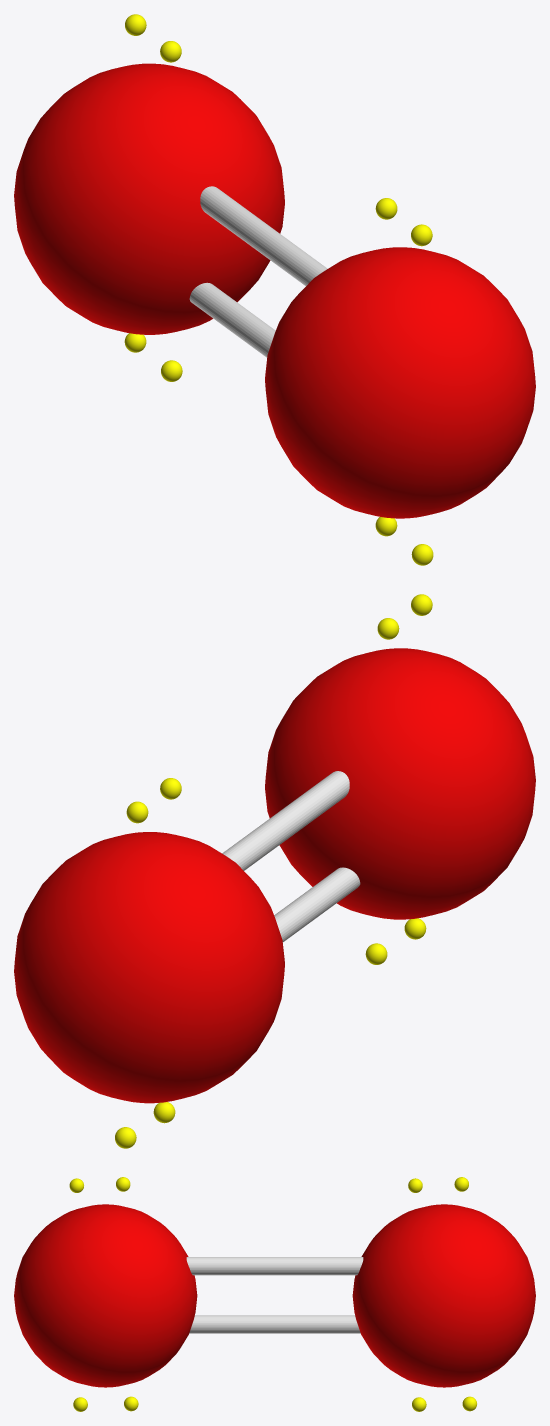
The model's file is O2_Molecule.fbx.
3 renders of one model, top to bottom at view 1: azimuth 30°, elevation 25°; view 2: azimuth 150°, elevation 25°; view 3: azimuth 270°, elevation 25°, orthographic. The views are drawn at different scales.
Visible parts, largest first — view 1: Sphere.009, Sphere, Cylinder, Cylinder.001; view 2: Sphere, Sphere.009, Cylinder, Cylinder.001; view 3: Sphere, Sphere.009, Cylinder, Cylinder.001.
Part boxes in pixels (x1=…): Sphere.009: x1=265, y1=247, x2=535, y2=518; Sphere: x1=14, y1=63, x2=284, y2=334; Cylinder: x1=200, y1=186, x2=327, y2=285; Cylinder.001: x1=189, y1=282, x2=275, y2=357; Sphere: x1=14, y1=832, x2=284, y2=1103; Sphere.009: x1=265, y1=648, x2=535, y2=919; Cylinder: x1=222, y1=771, x2=349, y2=870; Cylinder.001: x1=274, y1=867, x2=360, y2=942; Sphere: x1=352, y1=1204, x2=535, y2=1387; Sphere.009: x1=14, y1=1204, x2=197, y2=1387; Cylinder: x1=186, y1=1257, x2=363, y2=1275; Cylinder.001: x1=189, y1=1315, x2=360, y2=1333.
Bounding box in the file's own units: 200 × 279 × 569.
